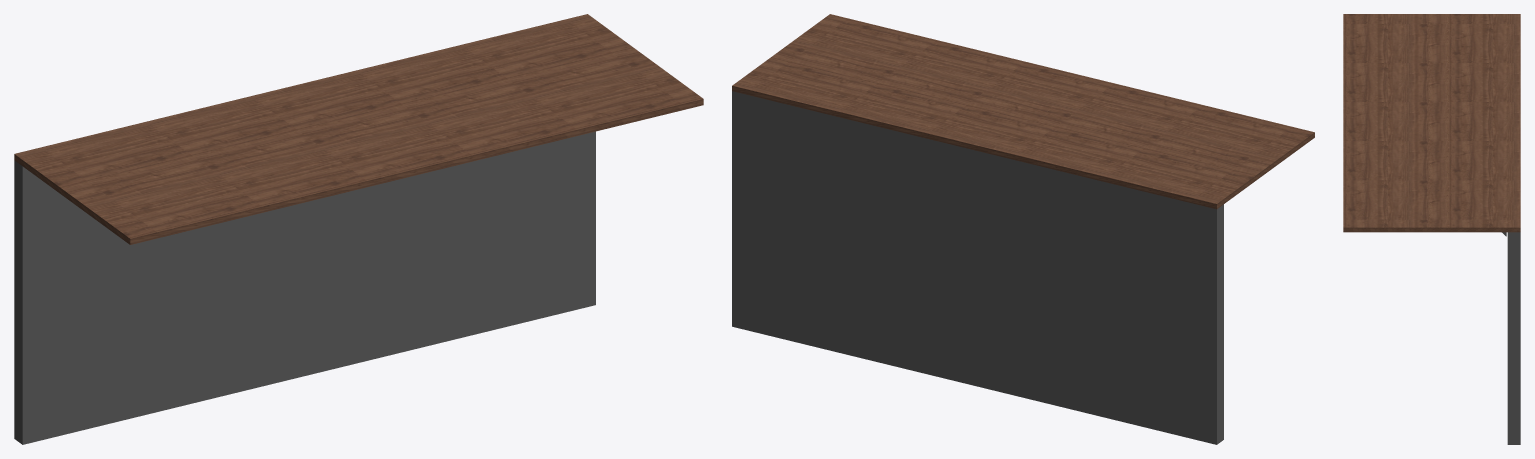
The model's file is shelf.glb.
3 views of the same model, side by side, from view 1: azimuth 30°, elevation 25°; view 2: azimuth 150°, elevation 25°; view 3: azimuth 270°, elevation 25° (orthographic). The views are drawn at different scales.
Visible parts, largest first — view 1: Cube.003; view 2: Cube.003; view 3: Cube.003.
Part boxes in pixels (x1,y1,x2,y2): Cube.003: [14, 14, 703, 444]; Cube.003: [732, 14, 1314, 444]; Cube.003: [1343, 14, 1520, 444].
Bounding box in the file's own units: 1.08 × 0.5133 × 0.3787.
Materials: 3 (1 with a texture image).
